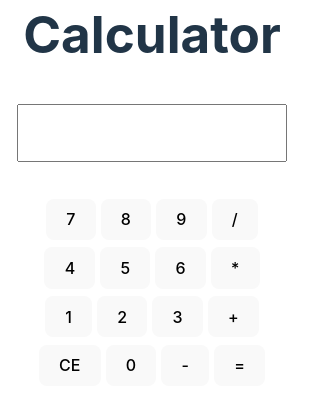
Test case: Calculator › should compute - operator
Click the button "2": (122, 317) x1=97 y1=296 x2=147 y2=337
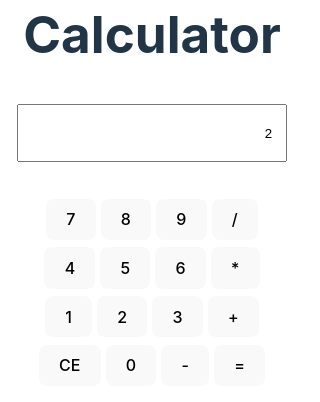
Click the button "-": (185, 365) x1=161 y1=345 x2=209 y2=386
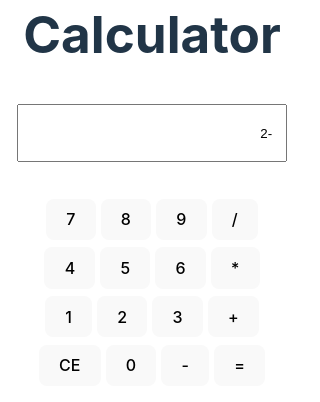
Click the button "2": (122, 317) x1=97 y1=296 x2=147 y2=337
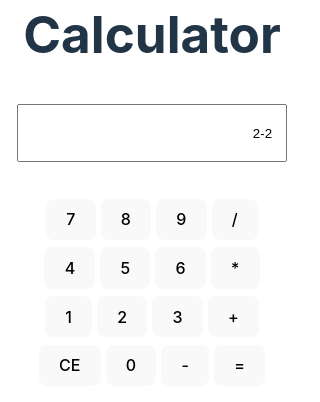
Now the field holds "2-2", box x1=16 y1=104 x2=287 y2=162
Click the button "=": (240, 365) x1=214 y1=345 x2=265 y2=386
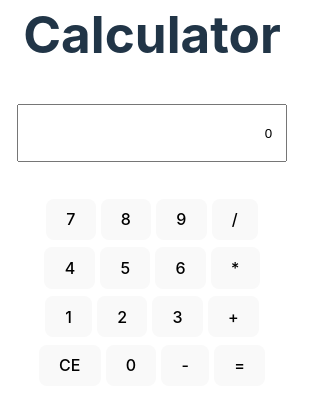
Now the field holds "0", box x1=16 y1=104 x2=287 y2=162
